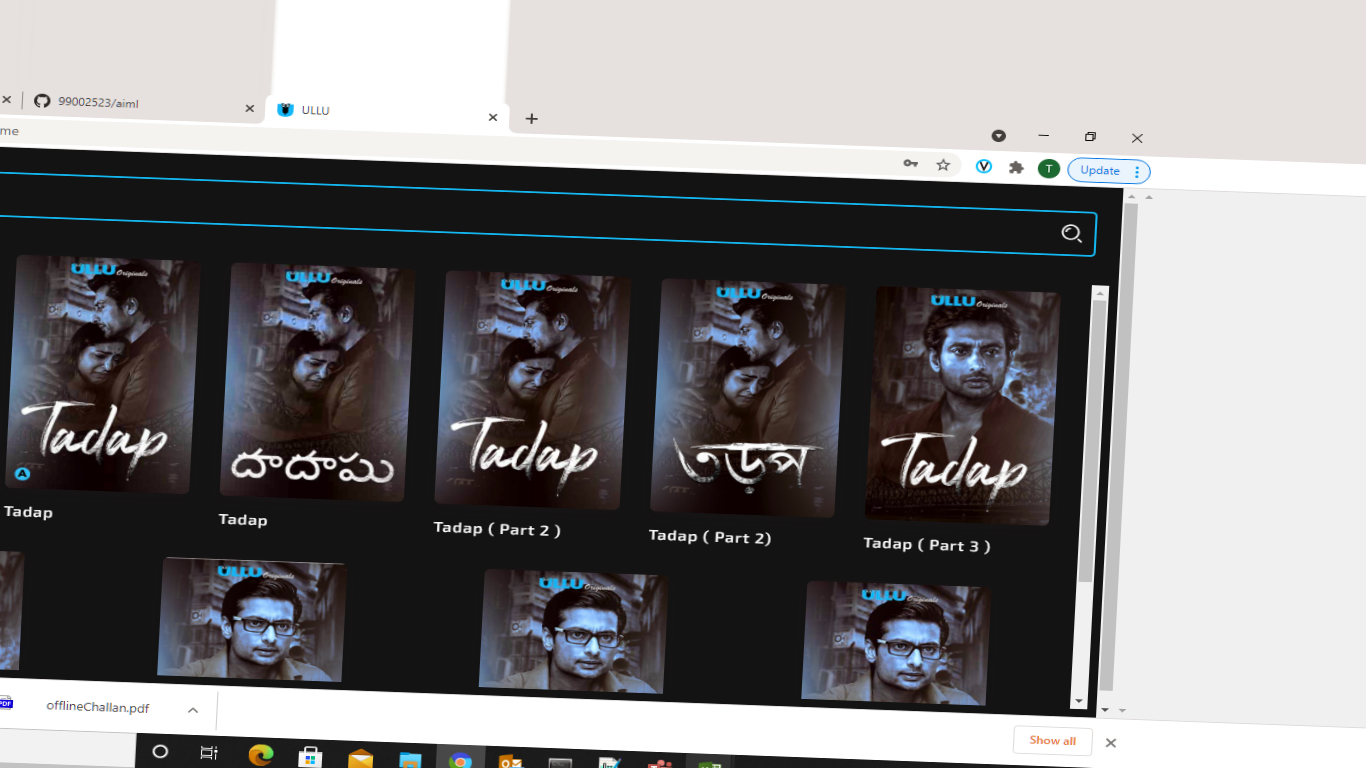searchicon: (1055, 212, 1094, 252)
searchtextbox: (1, 156, 1109, 263)
